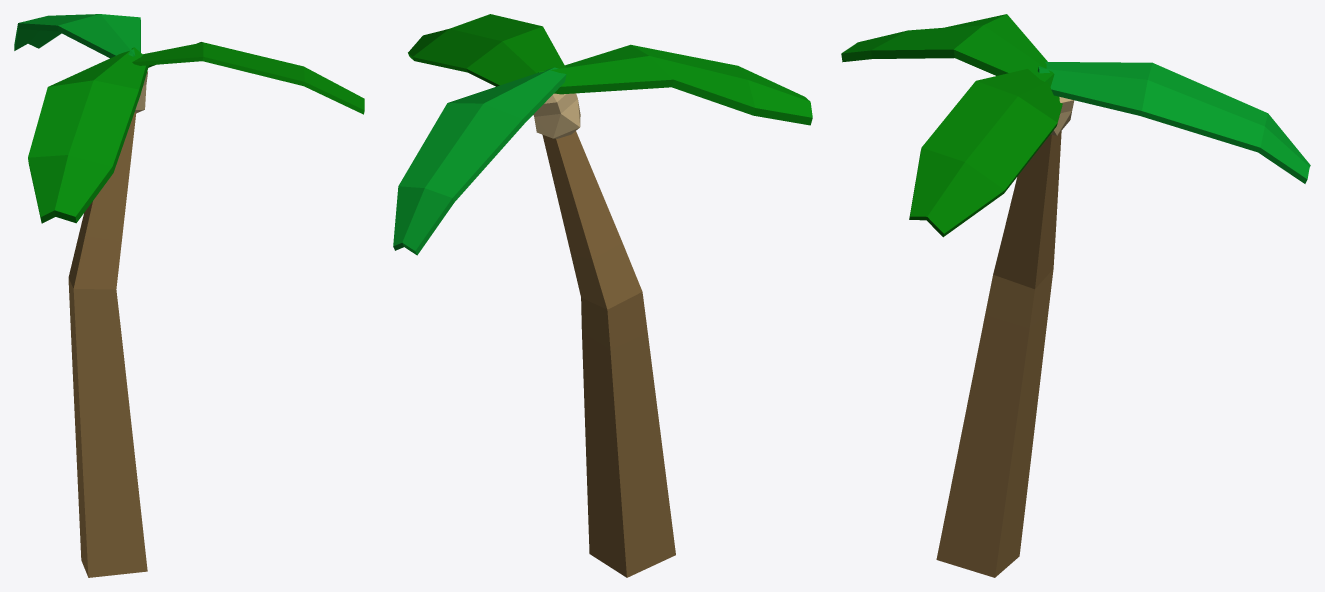
The model's file is PalmTree.fbx.
The picture shows the model from 3 angles, left to right: view 1: azimuth 30°, elevation 25°; view 2: azimuth 150°, elevation 25°; view 3: azimuth 270°, elevation 25°; orthographic projection. The views are drawn at different scales.
Visible parts, largest first — view 1: Cube.011, Plane.035, Plane.031, Plane.036; view 2: Cube.011, Plane.036, Plane.035, Plane.031, Icosphere.012; view 3: Cube.011, Plane.031, Plane.036, Plane.035.
Boxes of the visible parts, bbox=[...] form: Cube.011: bbox=[68, 112, 147, 577]; Plane.035: bbox=[28, 47, 148, 223]; Plane.031: bbox=[132, 42, 364, 114]; Plane.036: bbox=[14, 14, 140, 58]; Cube.011: bbox=[542, 131, 675, 577]; Plane.036: bbox=[393, 67, 566, 255]; Plane.035: bbox=[538, 44, 812, 125]; Plane.031: bbox=[408, 14, 565, 86]; Icosphere.012: bbox=[533, 93, 580, 138]; Cube.011: bbox=[936, 131, 1061, 577]; Plane.031: bbox=[909, 69, 1062, 237]; Plane.036: bbox=[1038, 62, 1310, 183]; Plane.035: bbox=[841, 14, 1054, 86].
Size of the model in its own units: 169 by 223 by 180.
